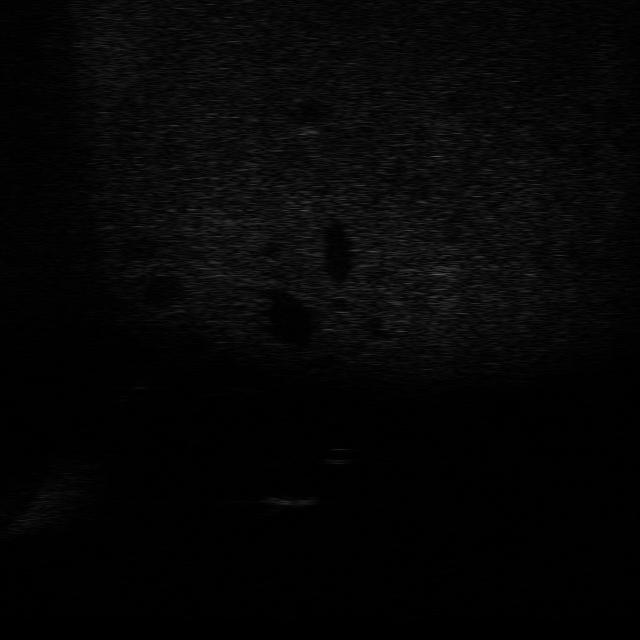ball: (312, 440, 362, 470)
square cage: (246, 487, 322, 522)
